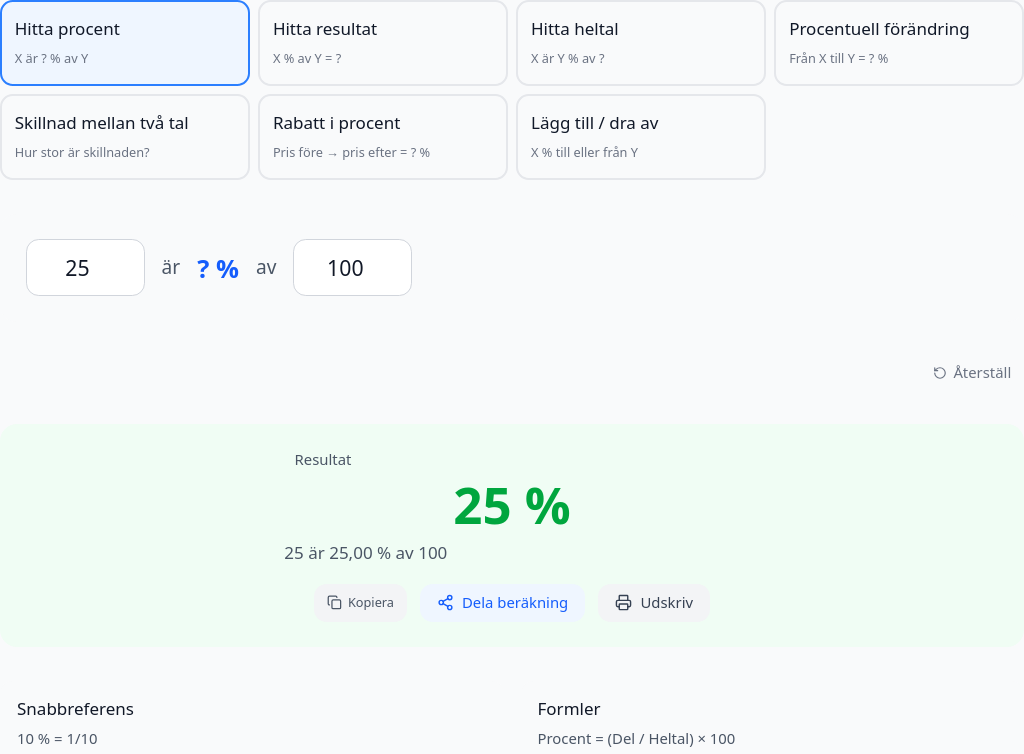
Test case: ProcentBeregner › svensk rabat-tilstand svarer med svenske ord
Click the radio button labelled "Rabatt i procent Pris före → pris efter = ? %" at coordinates (383, 137), box [258,94,508,180]
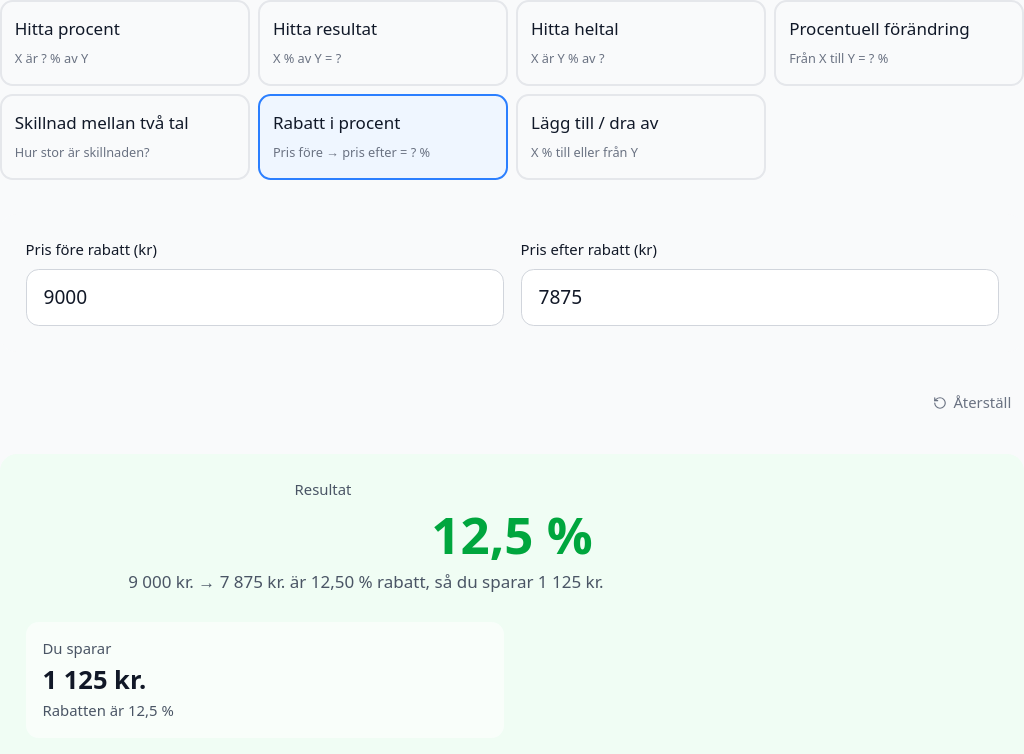
Result: the text "du sparar" is shown at [128,570,604,593]
Result: the number field labelled "Pris före rabatt (kr)" is shown at [26,269,504,326]
Result: the number field labelled "Pris efter rabatt (kr)" is shown at [520,269,998,326]
